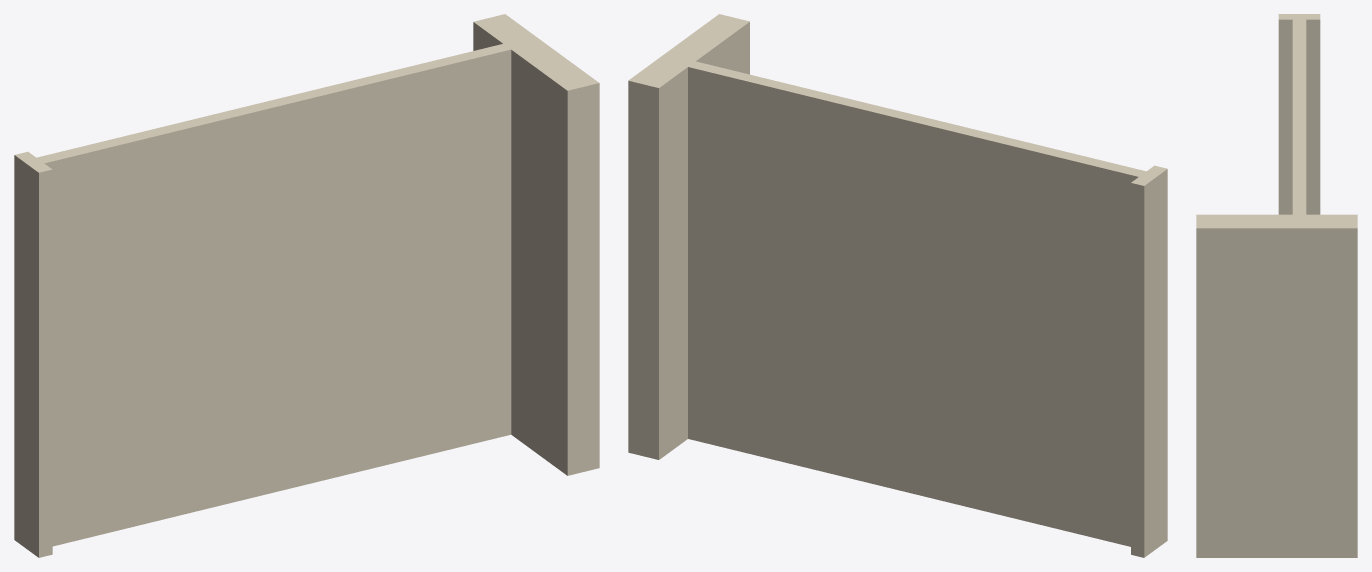
3 views of the same model, side by side, from view 1: azimuth 30°, elevation 25°; view 2: azimuth 150°, elevation 25°; view 3: azimuth 270°, elevation 25° (orthographic). The views are drawn at different scales.
Parts seen in each view (by area): view 1: A-FF-WALL-023; view 2: A-FF-WALL-023; view 3: A-FF-WALL-023.
Boxes of the visible parts, x1,y1,x2,y2 form: A-FF-WALL-023: (14, 14, 599, 557); A-FF-WALL-023: (628, 14, 1167, 557); A-FF-WALL-023: (1196, 14, 1357, 557).
Bounding box in the file's own units: 3.37 × 2.42 × 1.07.
